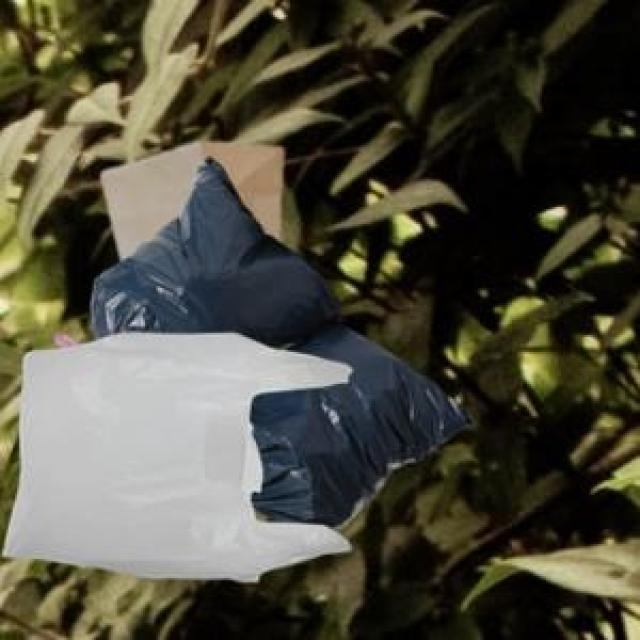miscellaneous trash: (51, 154, 469, 525)
paper: (98, 137, 280, 256)
